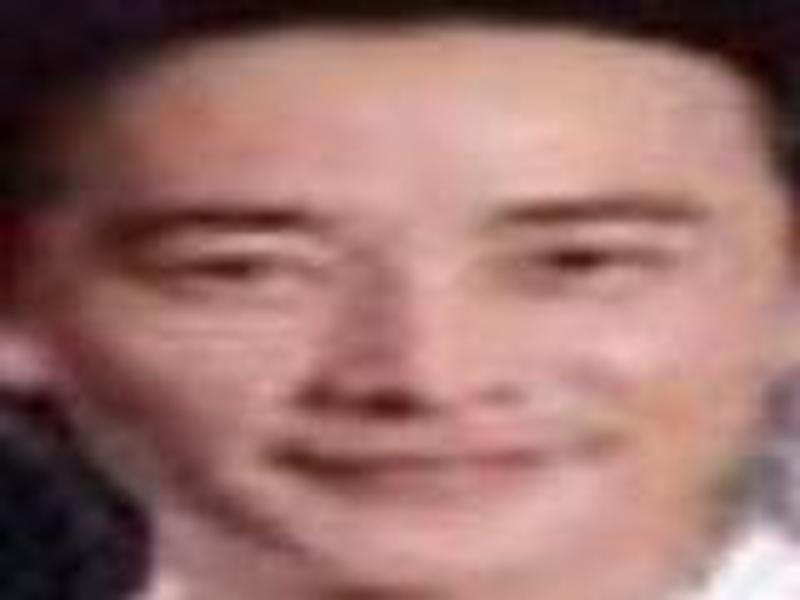without_mask: (44, 76, 782, 593)
